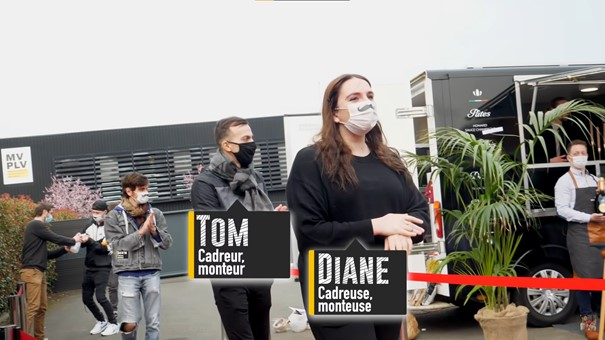with_mask: (331, 80, 380, 140), (221, 125, 257, 170), (124, 183, 150, 208), (566, 144, 587, 172), (90, 208, 107, 223), (43, 209, 53, 225)
